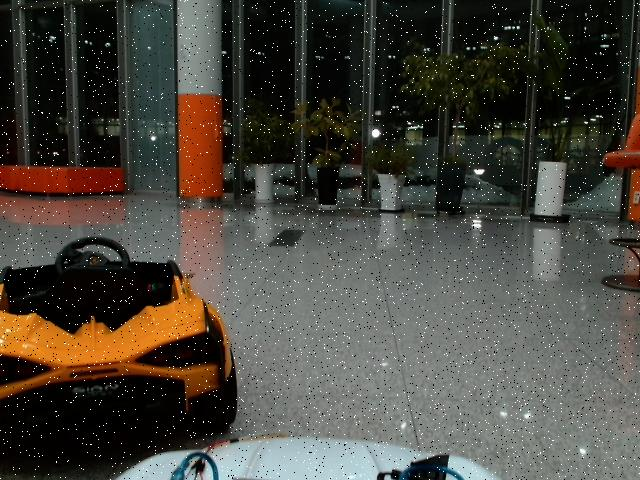car: (1, 237, 237, 457)
